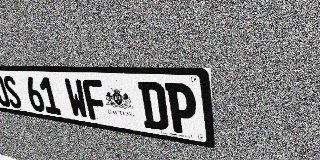1: (37, 77, 61, 115)
6: (23, 76, 46, 113)
D: (138, 81, 169, 131)
F: (81, 79, 109, 122)
J: (0, 75, 11, 107)
P: (165, 83, 198, 136)
S: (1, 76, 23, 109)
W: (63, 78, 90, 119)
